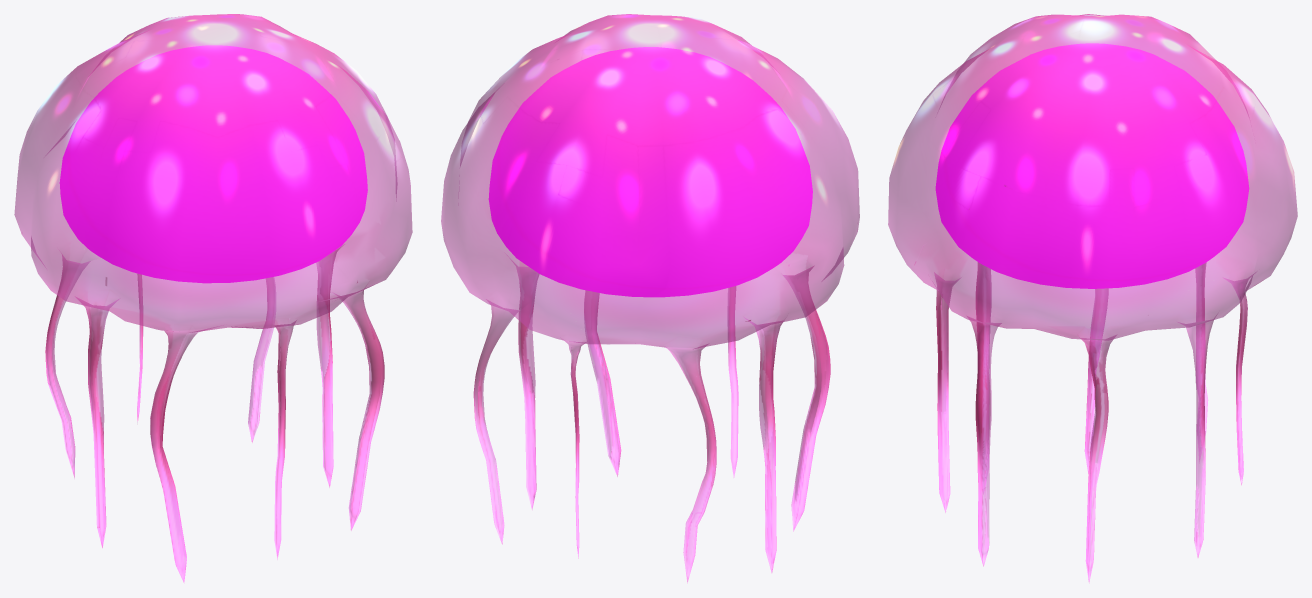
File: agua_viva.glb
3 renders of one model, left to right at view 1: azimuth 30°, elevation 25°; view 2: azimuth 150°, elevation 25°; view 3: azimuth 270°, elevation 25°, orthographic. The views are drawn at different scales.
Visible parts, largest first — view 1: Medusa Obj_2, Interior medusa_1; view 2: Medusa Obj_2, Interior medusa_1; view 3: Medusa Obj_2, Interior medusa_1.
Part boxes in pixels (<box>): Medusa Obj_2: <box>14,14,412,582</box>; Interior medusa_1: <box>59,45,367,283</box>; Medusa Obj_2: <box>441,14,859,582</box>; Interior medusa_1: <box>488,47,812,297</box>; Medusa Obj_2: <box>888,14,1297,582</box>; Interior medusa_1: <box>935,43,1249,288</box>.
Bounding box in the file's own units: 8.35 × 11.37 × 8.3.
2 materials, 1 textured.
